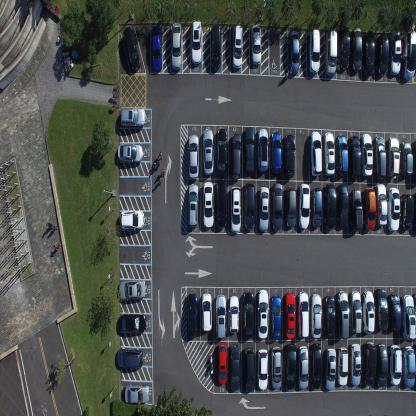car: (122, 25, 141, 73), (401, 31, 415, 80), (283, 343, 297, 391), (324, 29, 338, 77), (117, 278, 146, 301), (401, 294, 415, 340), (118, 312, 147, 334), (362, 30, 375, 79), (375, 33, 389, 78), (336, 291, 349, 339), (116, 346, 143, 369), (361, 290, 375, 334), (362, 342, 376, 386), (210, 22, 222, 73), (257, 288, 269, 339), (309, 130, 322, 177), (386, 136, 400, 179), (349, 188, 363, 231), (216, 179, 228, 229), (283, 292, 296, 338), (308, 28, 321, 74), (202, 127, 214, 176), (271, 181, 283, 230), (362, 188, 376, 230), (402, 346, 416, 388), (375, 288, 389, 330), (348, 134, 361, 179), (387, 187, 400, 232), (242, 290, 254, 338), (119, 208, 144, 231), (119, 107, 146, 128), (203, 181, 215, 228), (298, 182, 310, 229), (324, 182, 336, 229), (310, 343, 322, 390), (297, 291, 309, 338), (351, 26, 363, 73), (388, 345, 402, 385), (230, 186, 242, 232), (215, 294, 227, 340), (186, 292, 198, 338), (283, 132, 295, 178), (231, 24, 243, 70), (270, 344, 282, 390), (288, 29, 300, 75), (257, 186, 269, 232), (336, 182, 348, 228), (376, 342, 388, 388), (270, 294, 282, 340), (171, 20, 182, 70), (151, 24, 162, 74), (216, 127, 227, 177), (124, 383, 150, 404), (388, 292, 402, 331), (116, 142, 143, 162), (187, 134, 199, 179), (323, 131, 335, 176), (297, 345, 309, 390), (310, 293, 322, 338), (389, 30, 401, 75), (338, 26, 350, 71), (243, 126, 254, 174), (244, 182, 255, 230), (250, 22, 262, 66), (361, 133, 373, 177), (374, 136, 386, 180), (229, 344, 240, 392), (310, 185, 322, 229), (375, 183, 387, 227), (350, 290, 362, 334), (324, 348, 336, 392), (230, 132, 241, 179), (191, 18, 202, 65), (270, 131, 282, 174), (323, 295, 335, 338), (336, 346, 349, 385), (349, 344, 361, 386), (187, 183, 198, 228), (244, 346, 255, 391), (336, 134, 348, 175), (257, 128, 268, 172), (285, 185, 296, 228), (217, 342, 228, 384), (401, 192, 413, 230), (400, 139, 412, 176), (201, 292, 212, 332), (257, 347, 267, 391), (228, 294, 239, 333), (412, 139, 415, 179), (413, 192, 416, 231)
